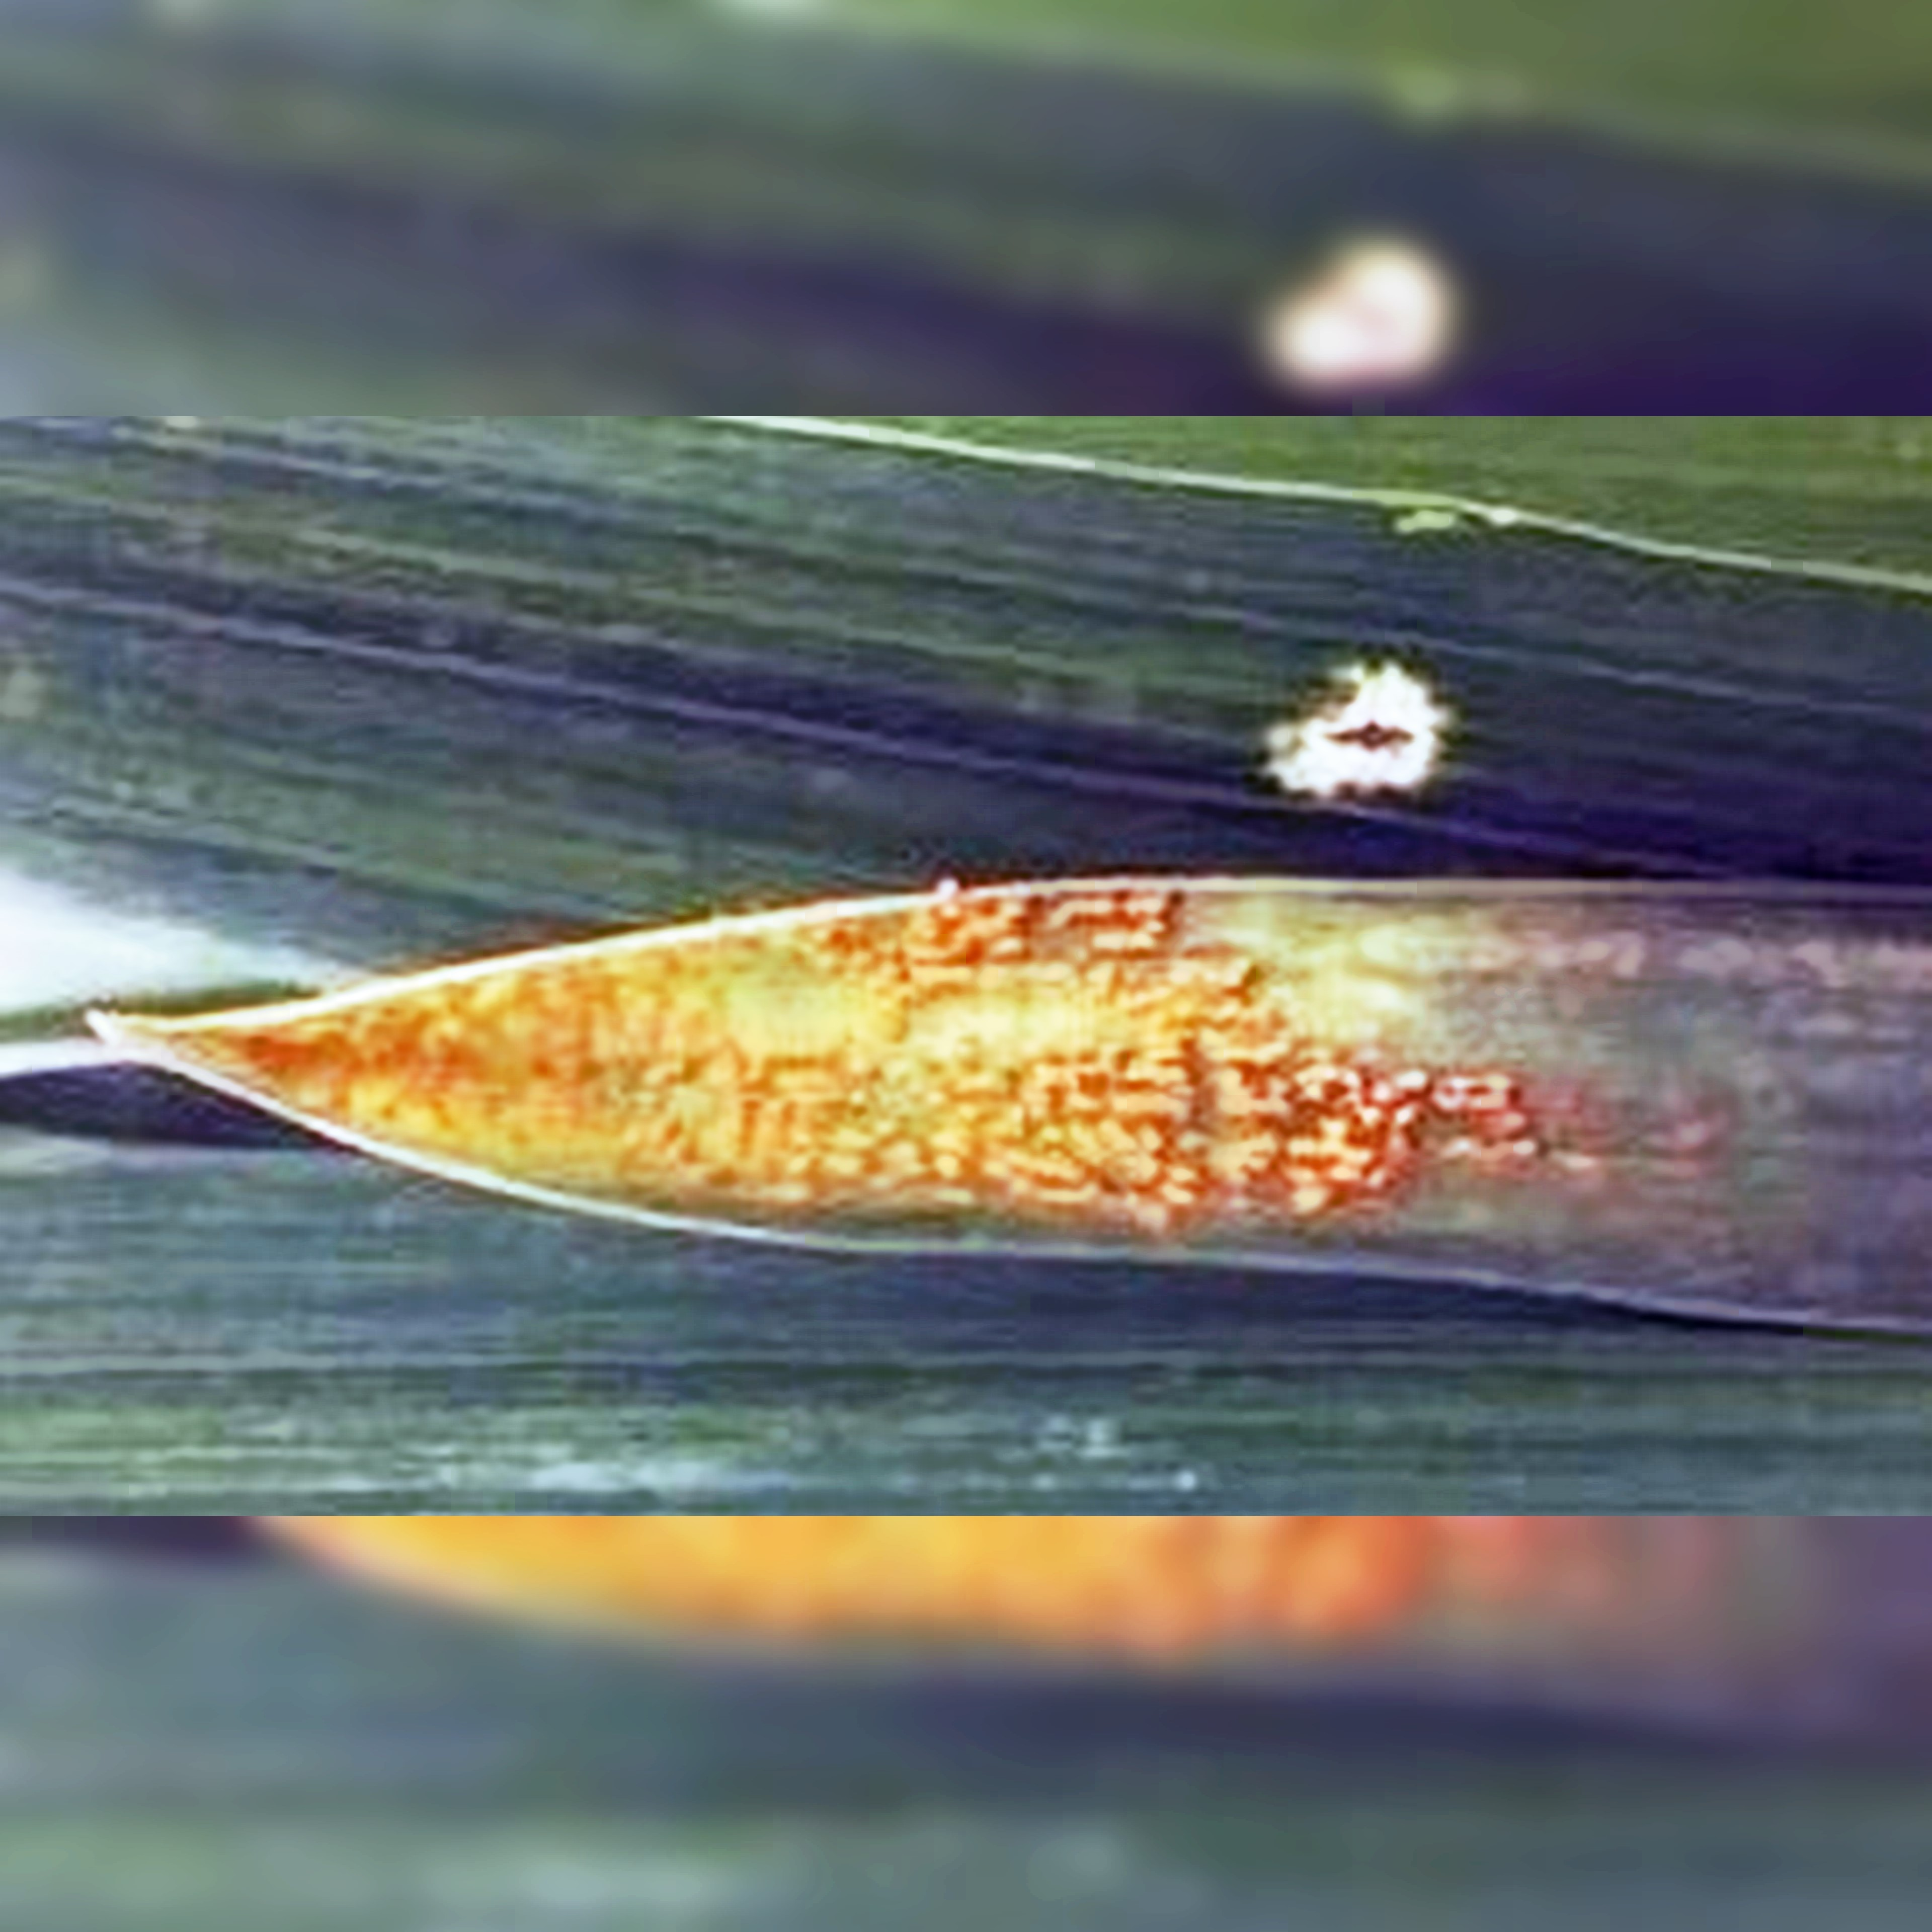Leaf Rust: (303, 844, 1675, 1272)
